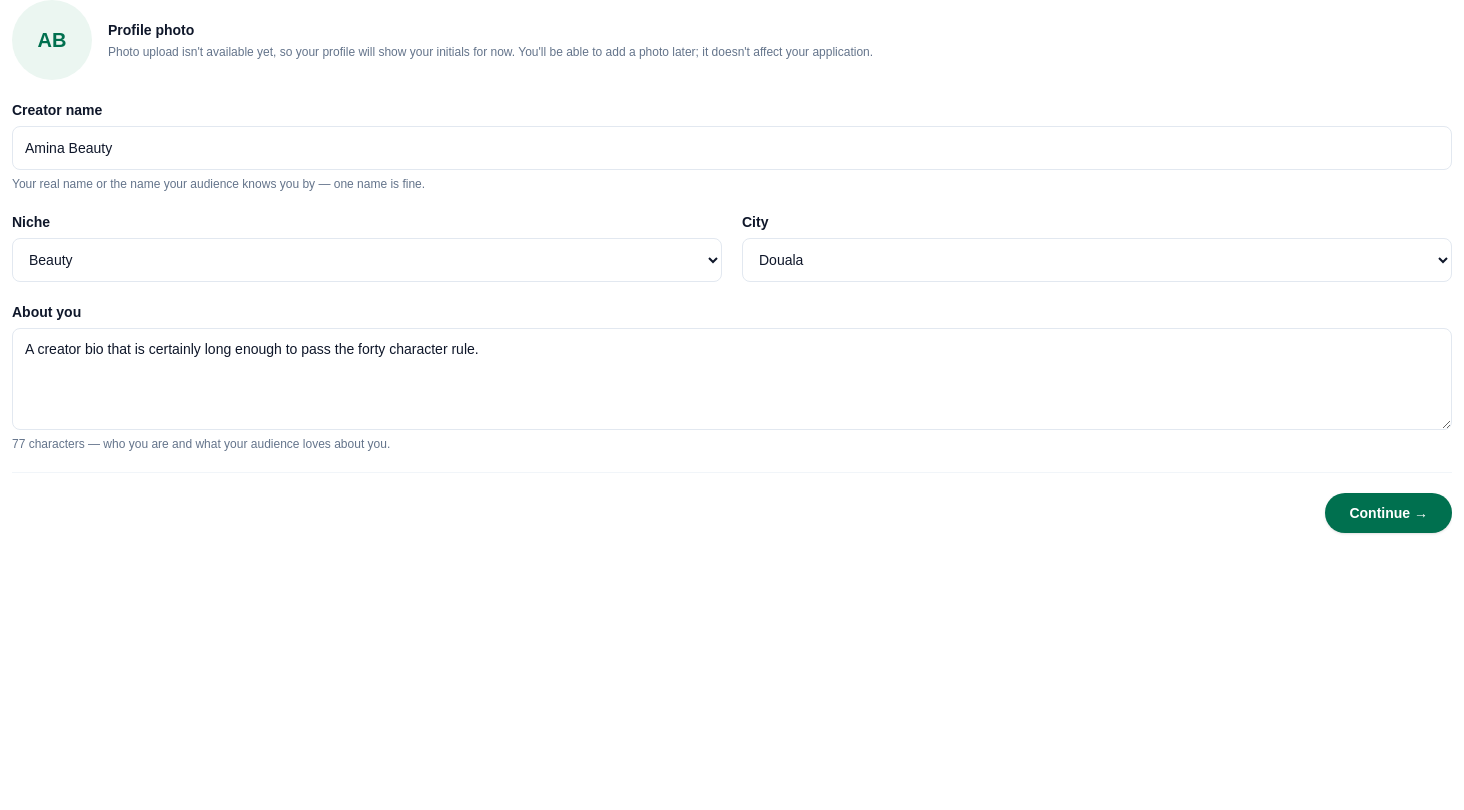
Test: profile step › an ended session says the changes were not saved and links to sign-in
Click the button "Continue →" at x=1389, y=513, box [1326,493,1452,533]
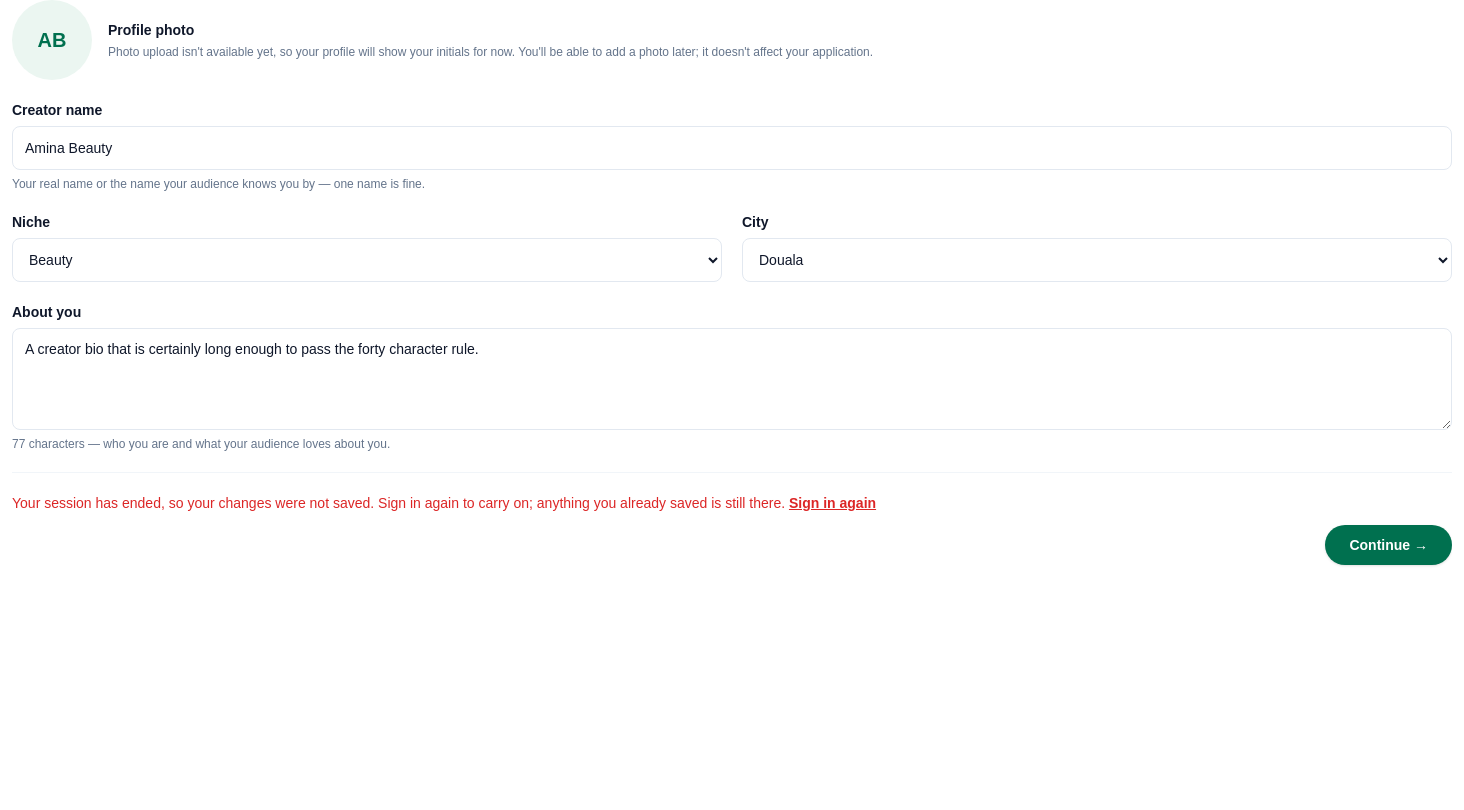
Result: the message shows "session has ended" at [12,495,785,511]
Result: the message shows "not saved" at [12,495,785,511]
